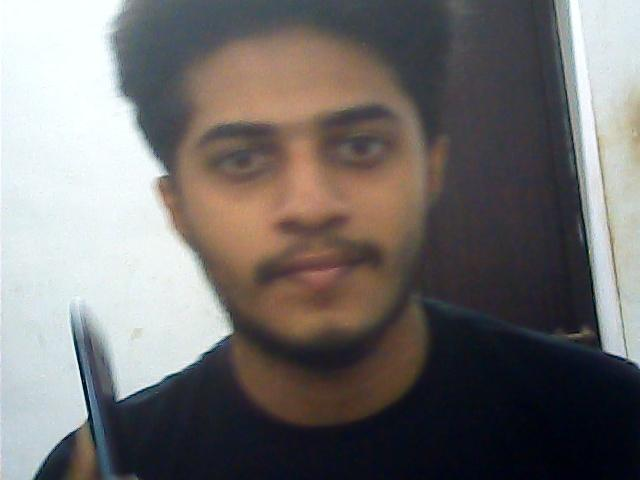PhoneUse: (60, 298, 148, 478)
SafeDriving: (316, 114, 407, 176), (197, 128, 291, 186)
